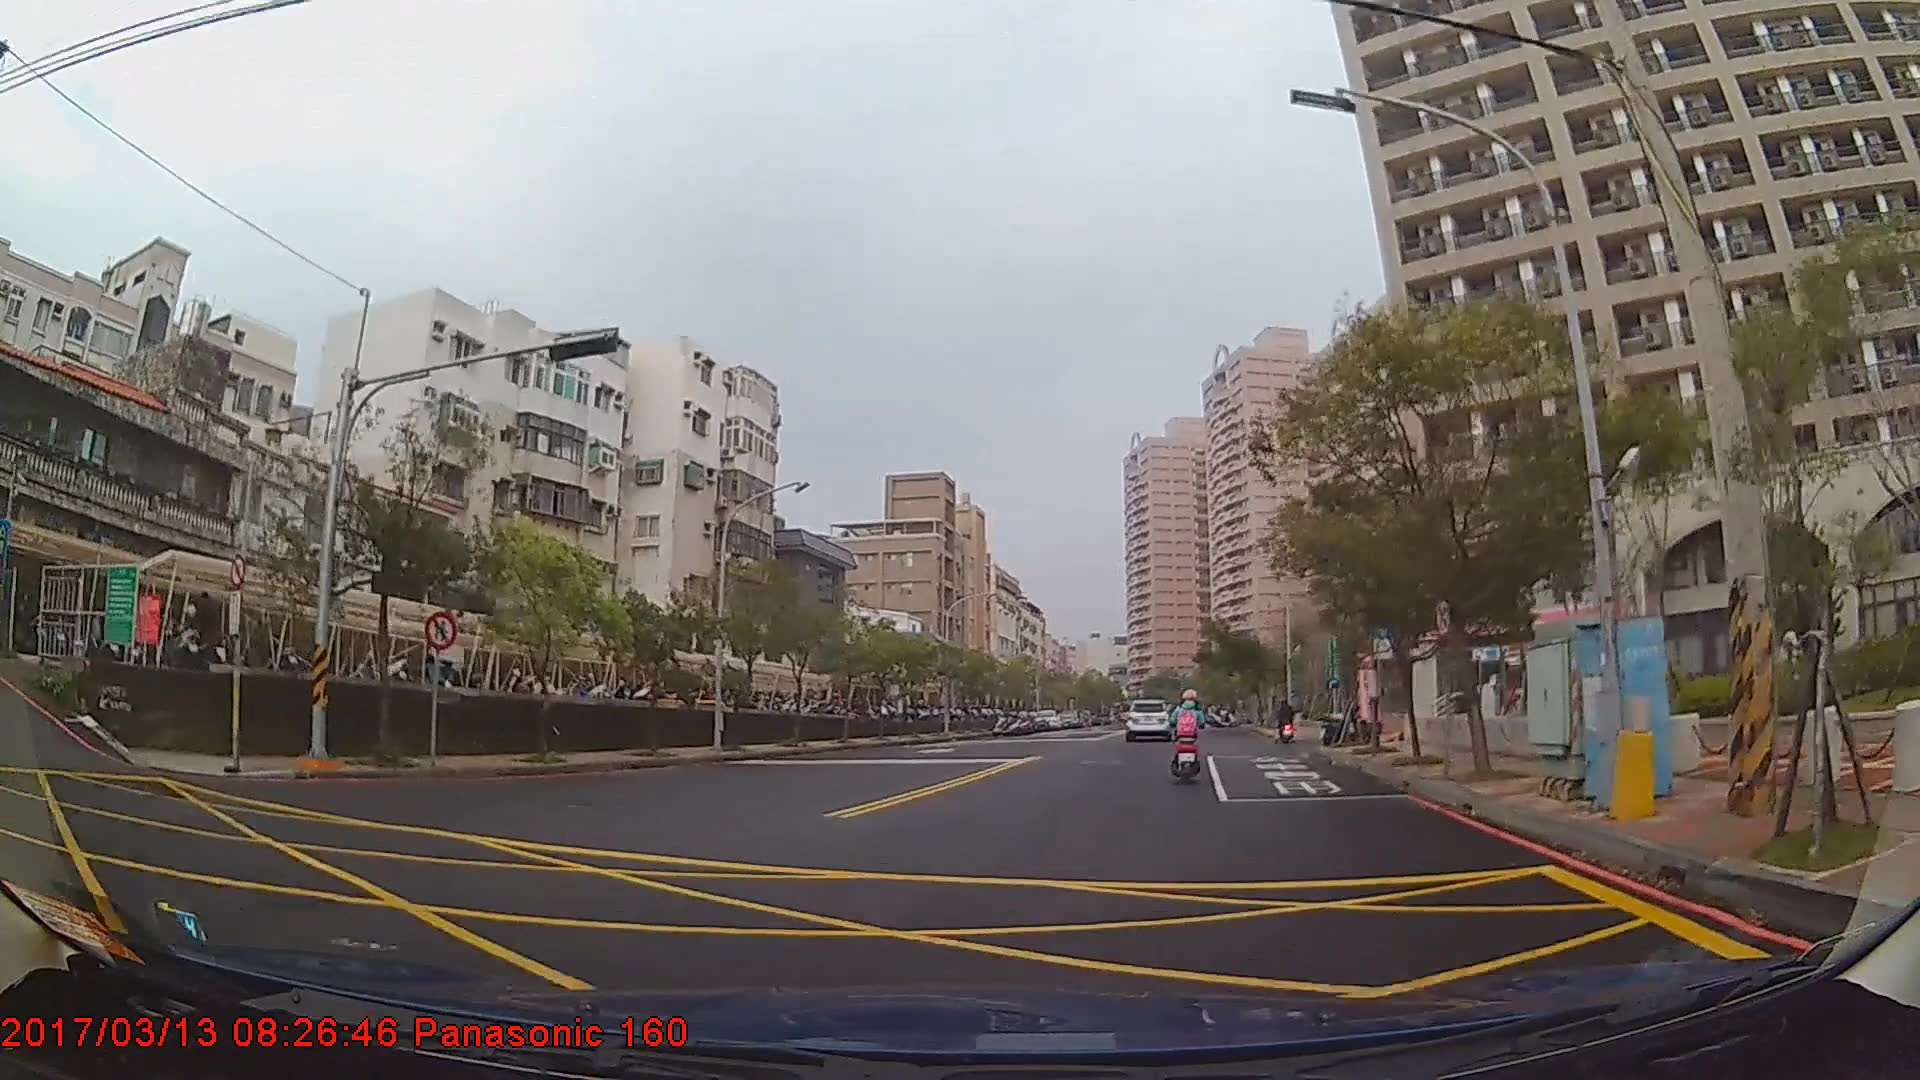rider: (1167, 689, 1210, 782)
vehicle: (1122, 695, 1171, 739)
